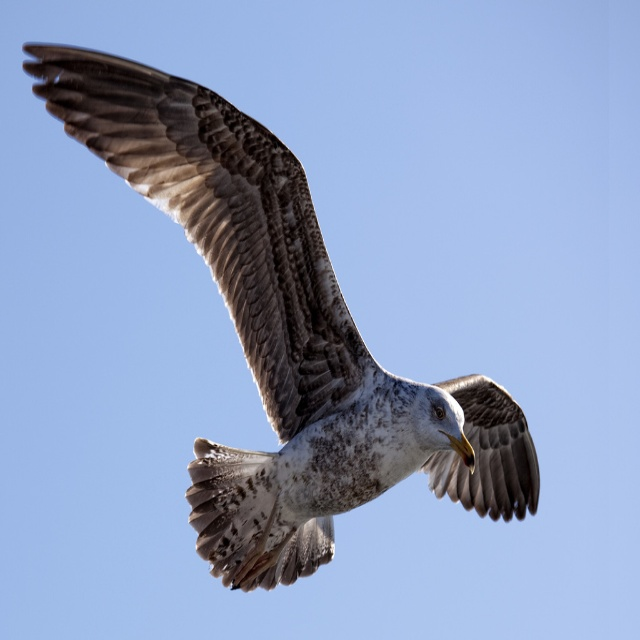Eagle: (20, 33, 540, 608)
